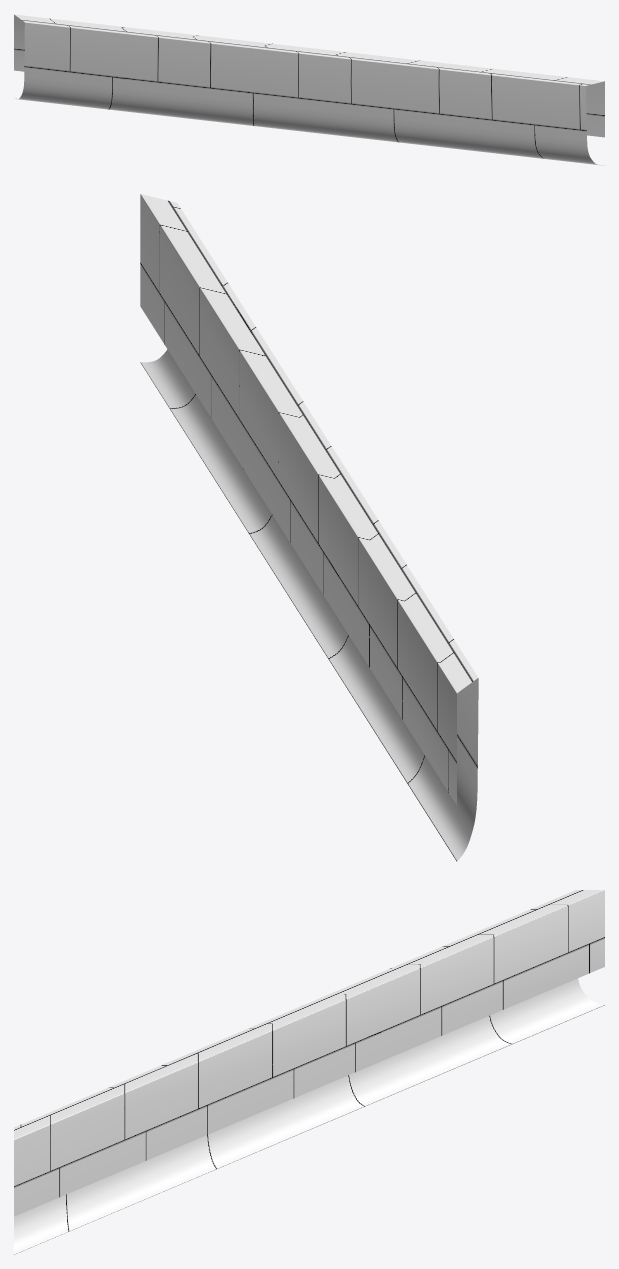
File: Parapet01_45Deg_700cm.FBX
3 views of the same model, one above another, from view 1: azimuth 30°, elevation 25°; view 2: azimuth 150°, elevation 25°; view 3: azimuth 270°, elevation 25° (orthographic). The views are drawn at different scales.
Visible parts, largest first — view 1: Parapet01_45Deg_700cm; view 2: Parapet01_45Deg_700cm; view 3: Parapet01_45Deg_700cm.
Boxes of the visible parts, box(x1,y1,x2,y2) form: Parapet01_45Deg_700cm: box(14, 14, 604, 165); Parapet01_45Deg_700cm: box(140, 194, 478, 861); Parapet01_45Deg_700cm: box(14, 890, 604, 1254).
Bounding box in the file's own units: 700 × 150 × 700.
